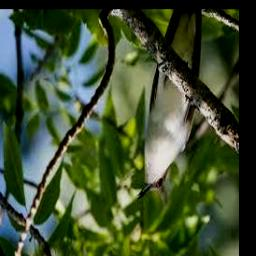Cuckoo: (136, 9, 201, 200)
